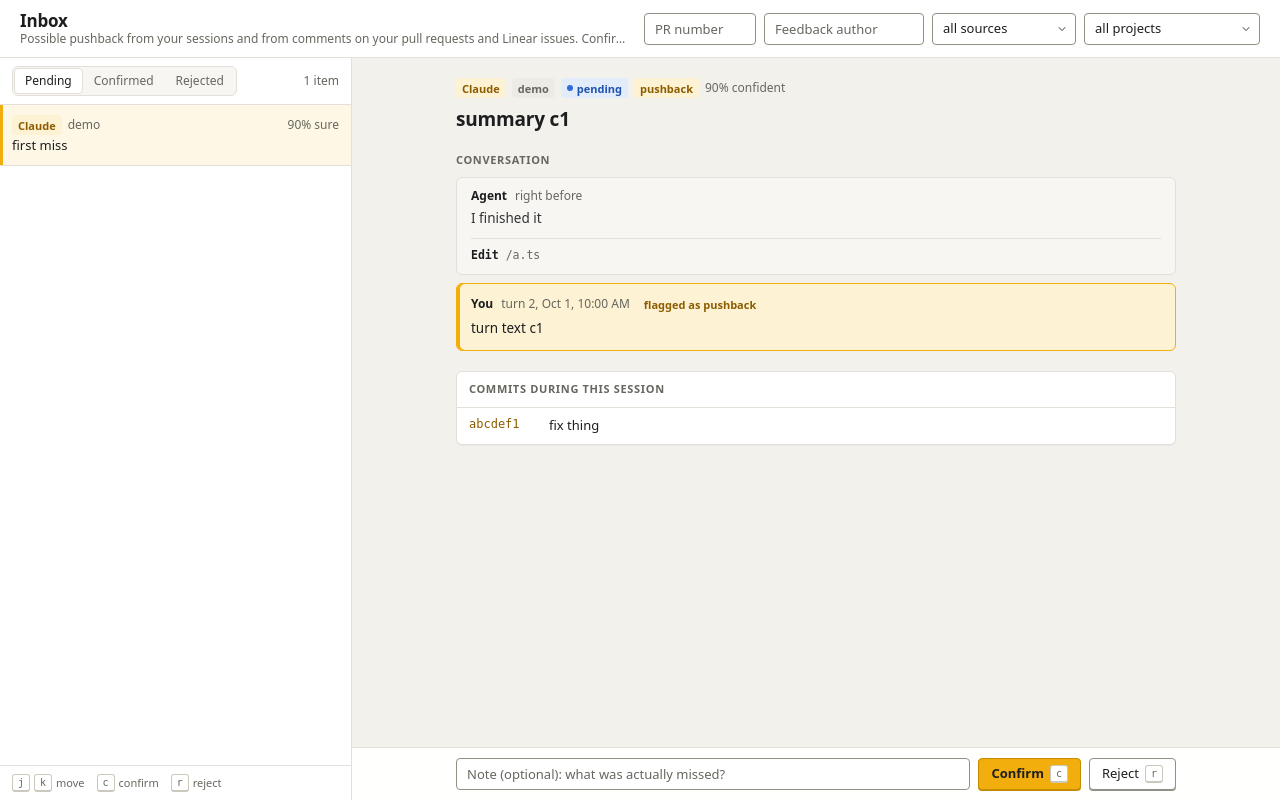
Test: the project filter lists every project, and keeps showing the one picked when its list is empty
The image size is (1280, 800).
Expected: the text "turn text c1" is shown, [471,319,544,337]
Select "demo" in the dropdown named "project" at (1172, 29), box [1084,13,1260,45]
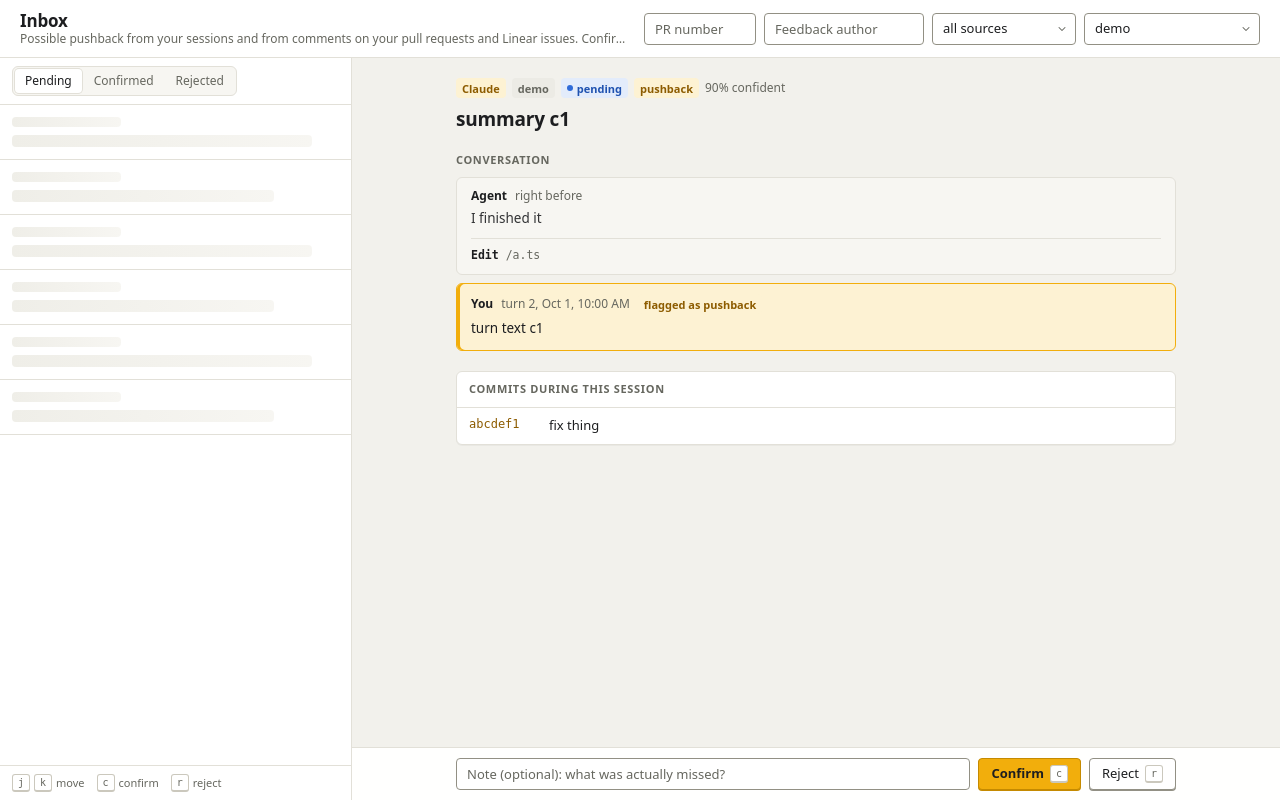
Click the button "rejected" at (200, 81), box [166,69,234,93]
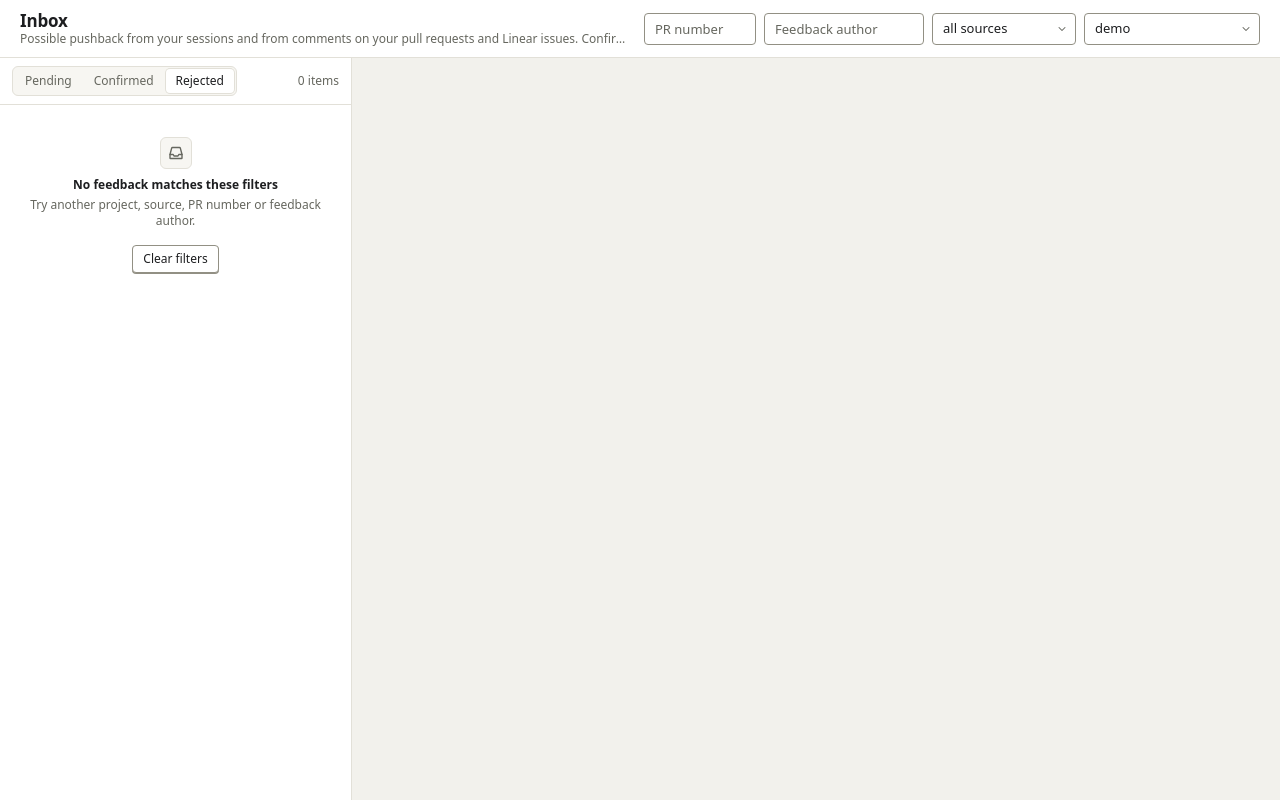
Expected: the text "No feedback matches these filters" is shown, [73,177,278,193]
